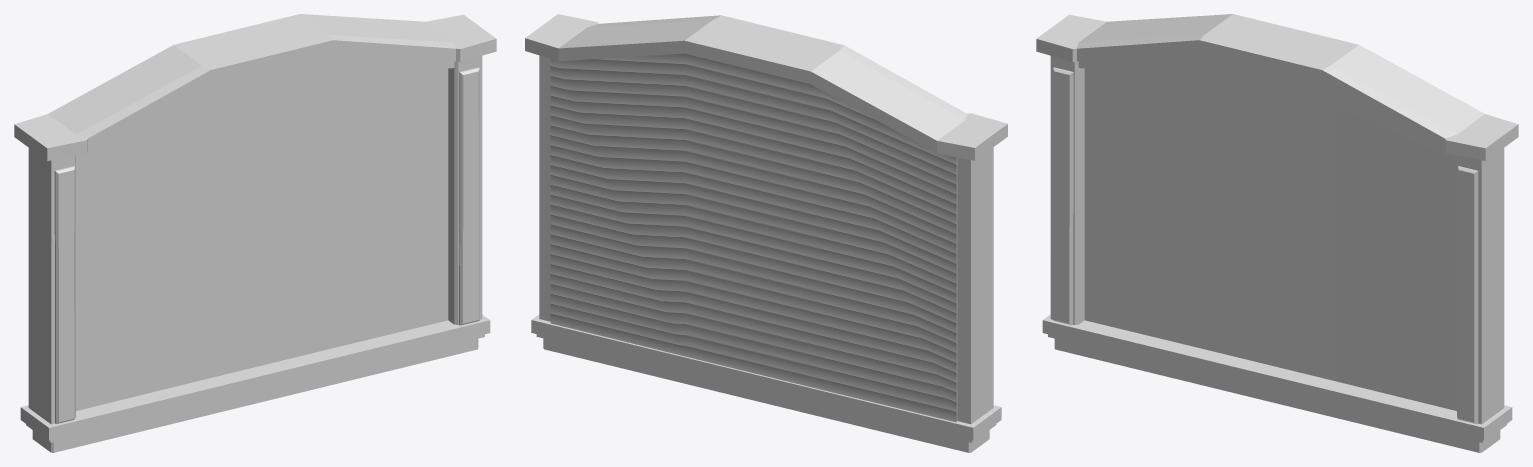
File: WindowAssets.fbx
The picture shows the model from 3 angles, left to right: view 1: azimuth 30°, elevation 25°; view 2: azimuth 150°, elevation 25°; view 3: azimuth 330°, elevation 25°; orthographic projection.
Parts seen in each view (by area): view 1: Glass, WindowFrame; view 2: Blinds, WindowFrame; view 3: Glass, WindowFrame.
Boxes of the visible parts, x1,y1,x2,y2 form: Glass: [76, 68, 448, 410]; WindowFrame: [14, 14, 496, 452]; Blinds: [550, 53, 957, 422]; WindowFrame: [525, 14, 1007, 452]; Glass: [1084, 68, 1456, 410]; WindowFrame: [1036, 14, 1518, 452].
Size of the model in its own units: 367 by 274 by 51.96.
Materials: 2 (1 with a texture image).
